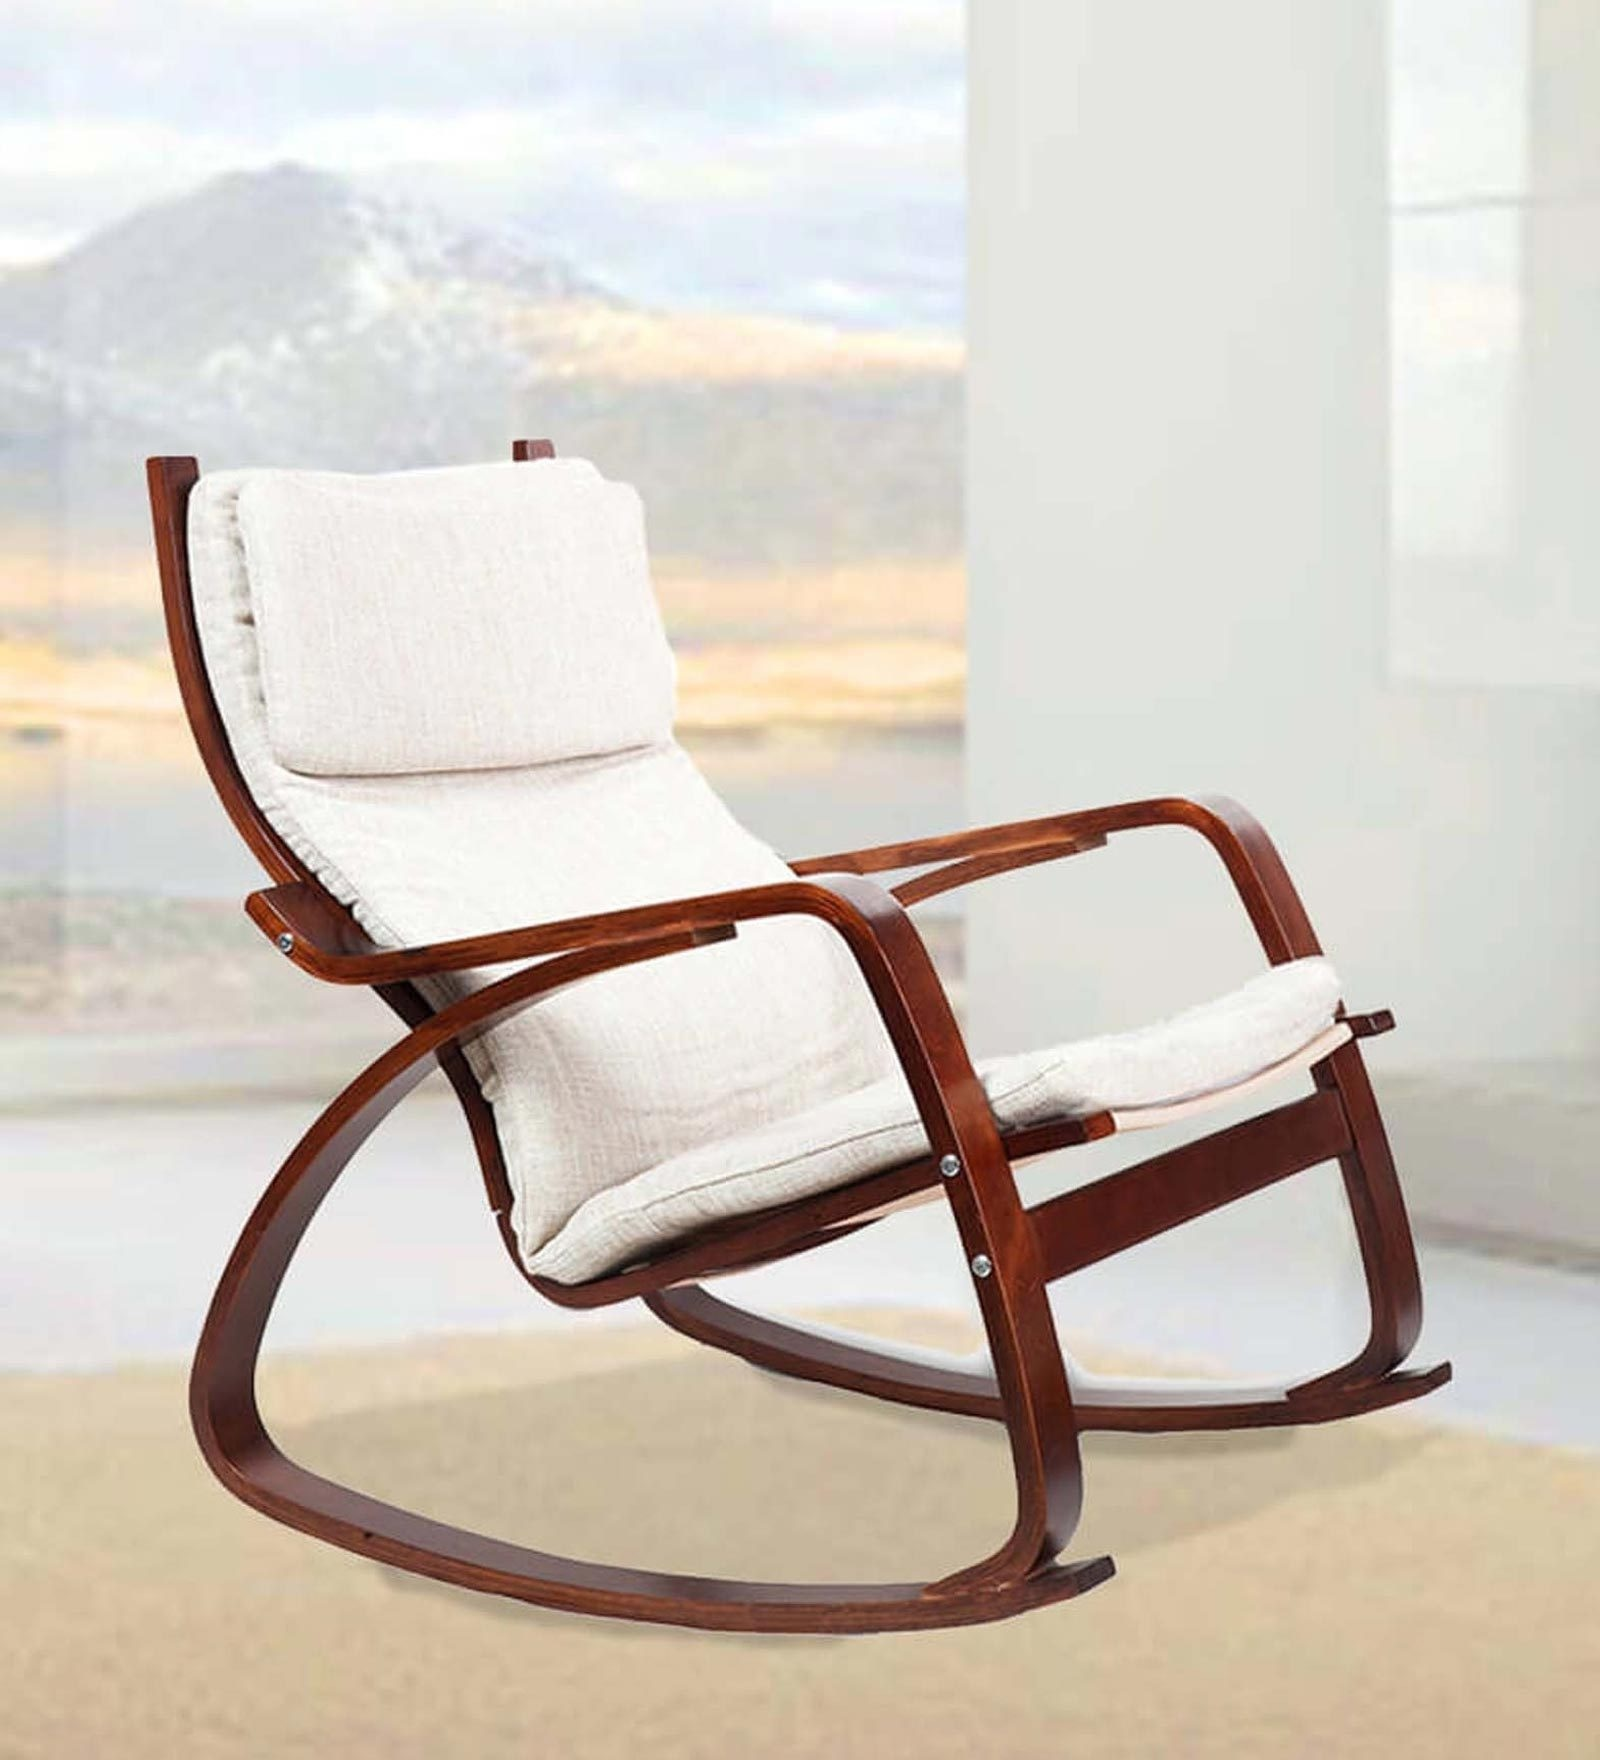Vita Rocker Chair in Beige Colour by HomeTown: (64, 360, 1503, 1673)
